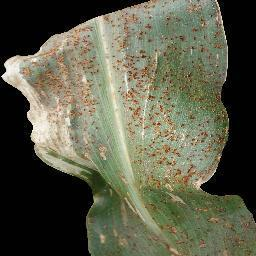Corn_Common_Rust: (107, 0, 231, 256), (1, 12, 108, 177), (82, 177, 107, 256), (230, 194, 256, 256)
